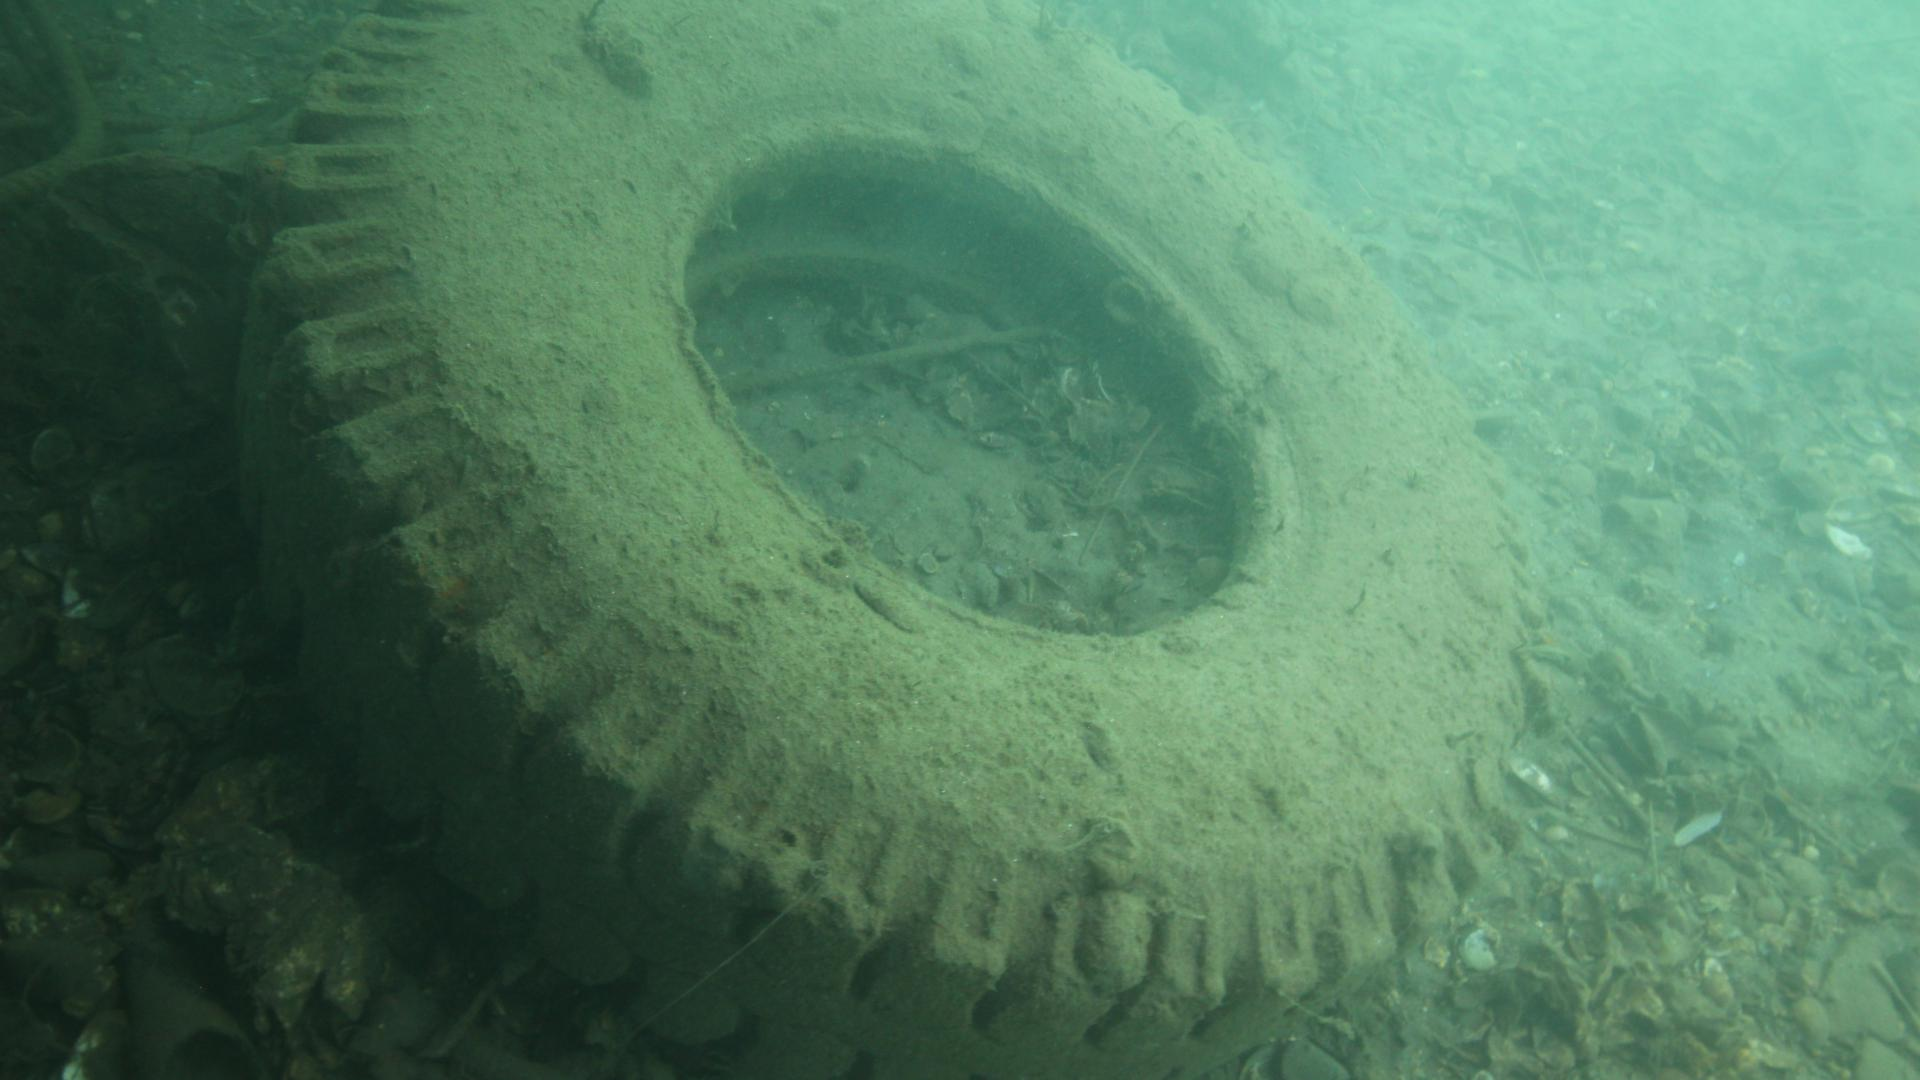rope: (0, 0, 104, 218)
tire: (235, 0, 1540, 1080)
